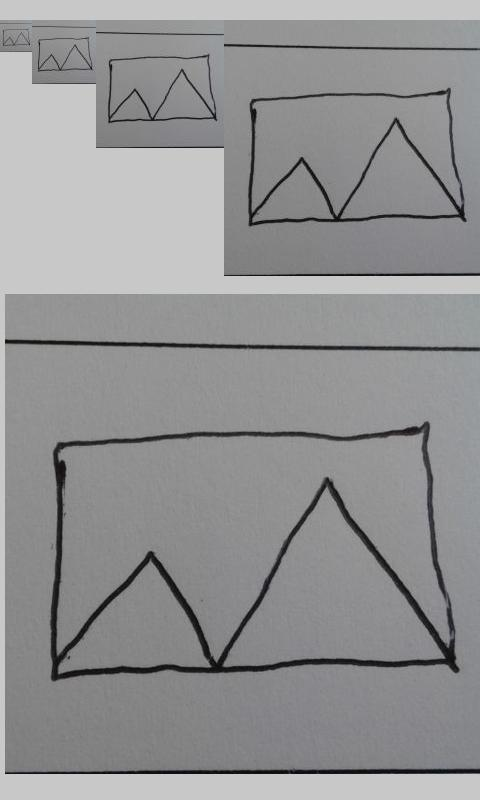image_view: (45, 419, 456, 684), (245, 87, 465, 230), (107, 54, 216, 123), (37, 37, 93, 72), (2, 28, 30, 47)
